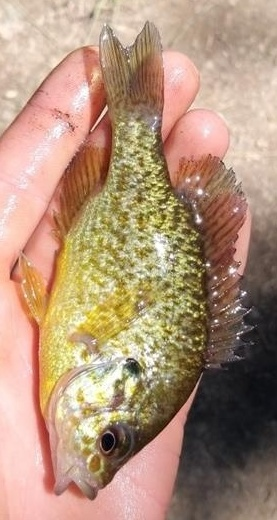Lepomis gibbosus: (20, 20, 257, 500)
